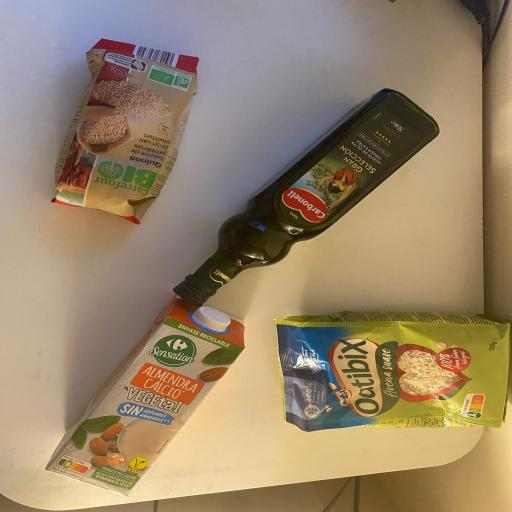almond_milk: (45, 294, 247, 500)
oats: (276, 307, 510, 429)
olive_oil: (171, 86, 443, 308)
quinoa: (51, 38, 199, 224)
